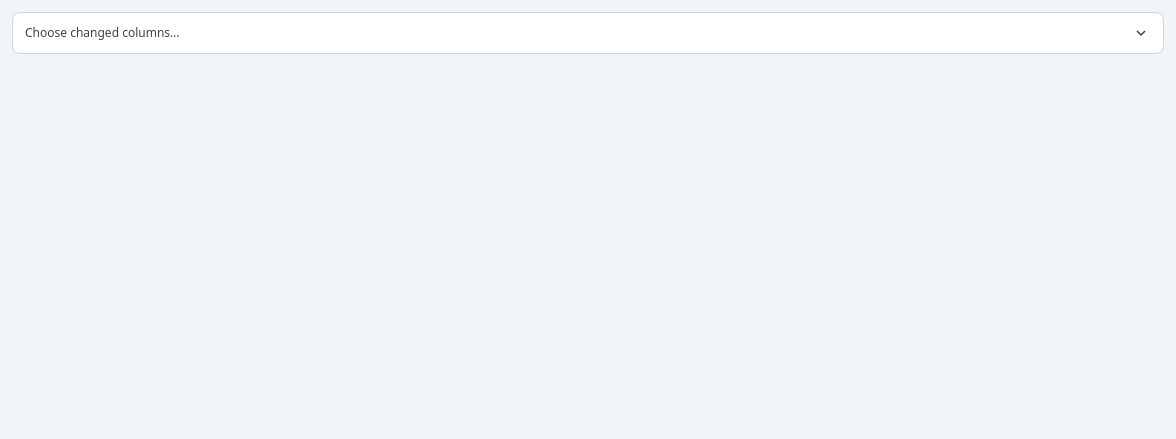
Test: Changed column picker › searches both names and preserves selections hidden by search as removable chips
Click the button with aria-label "Changed columns (optional)".
click(102, 33)  # box [12,12,1164,54]
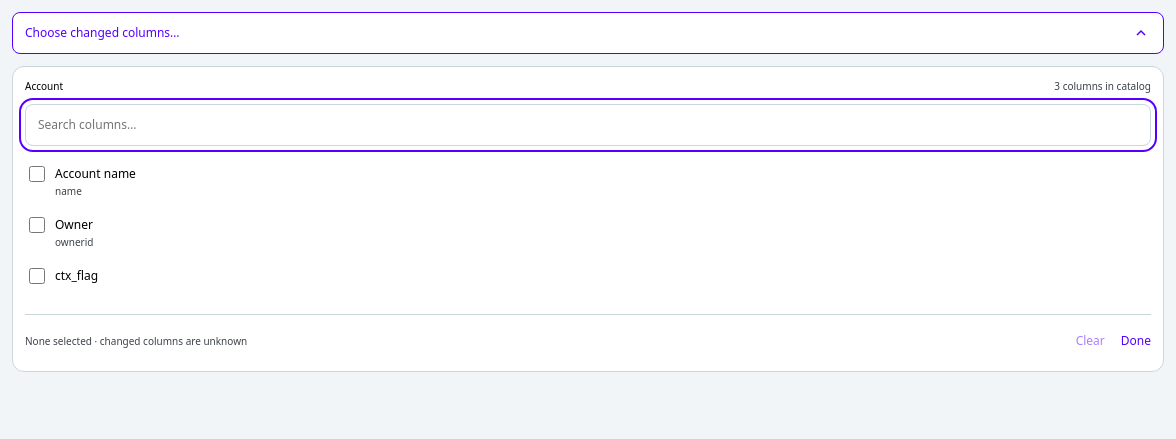
Click the checkbox named "Account name (name)".
click(37, 174)  # box [29,166,45,182]
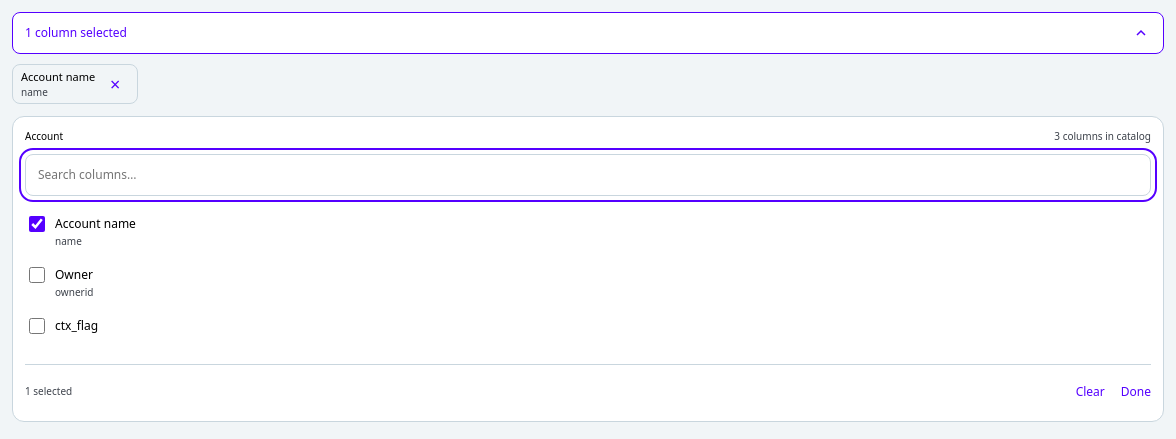
Type "OWNERID" into the search field.
click(588, 175); type("OWNERID")  # box [25,154,1151,196]
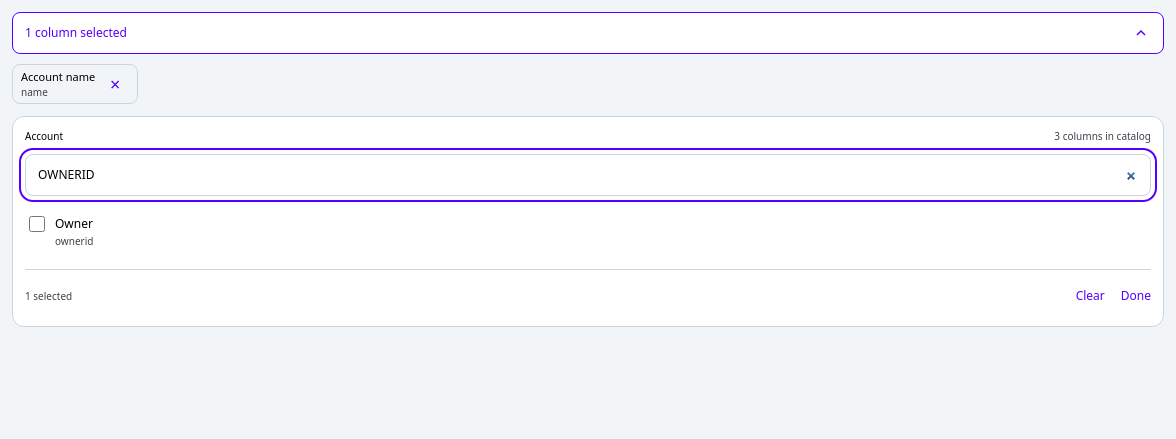
Now the checkbox named "Owner (ownerid)" is shown
Click the checkbox named "Owner (ownerid)".
click(37, 224)  # box [29,216,45,232]
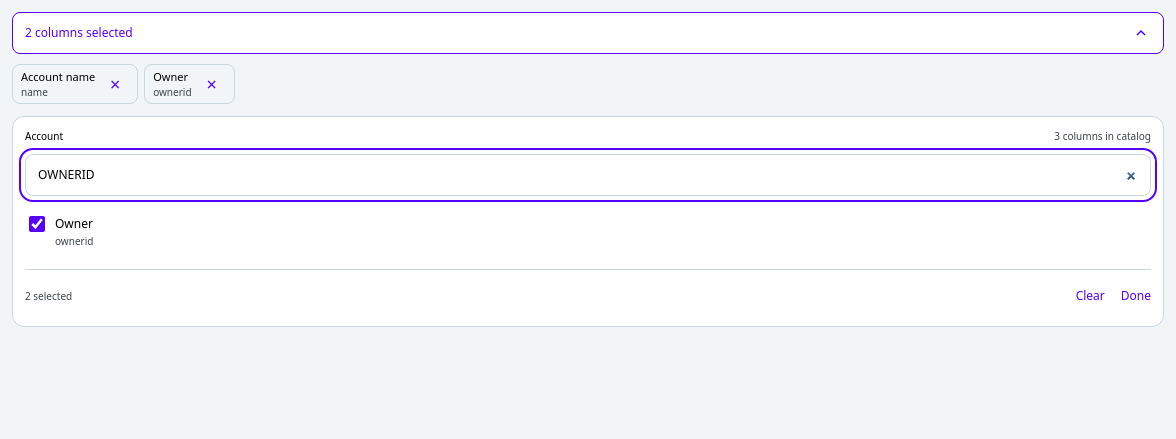
Now the text "Account name" is shown, box [21,69,95,84]
Now the message reads "2 selected", box [25,289,72,303]
Click the button named "Remove column name".
click(115, 84)  # box [101,70,129,98]
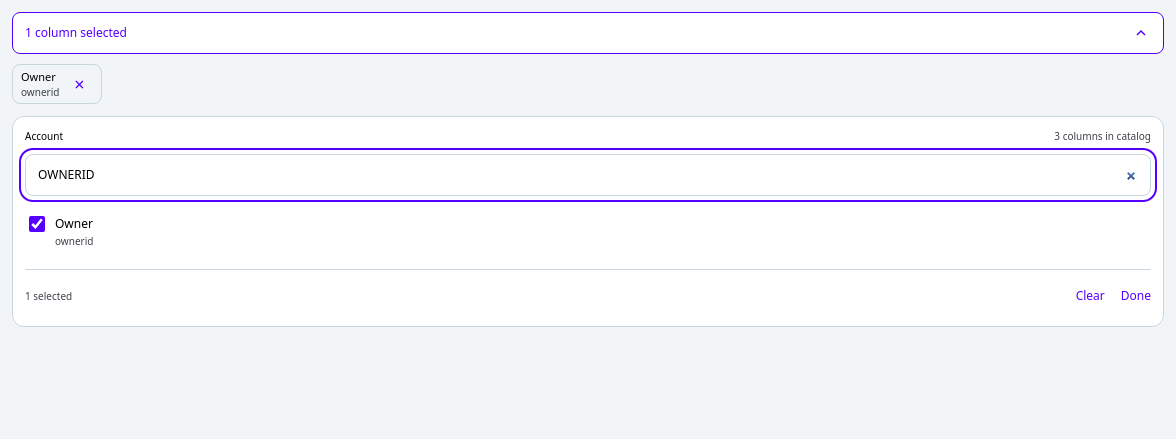
Now the message reads "1 selected", box [25,289,72,303]
Replace the text in the search field with "Account name" at (588, 175), box [25,154,1151,196]
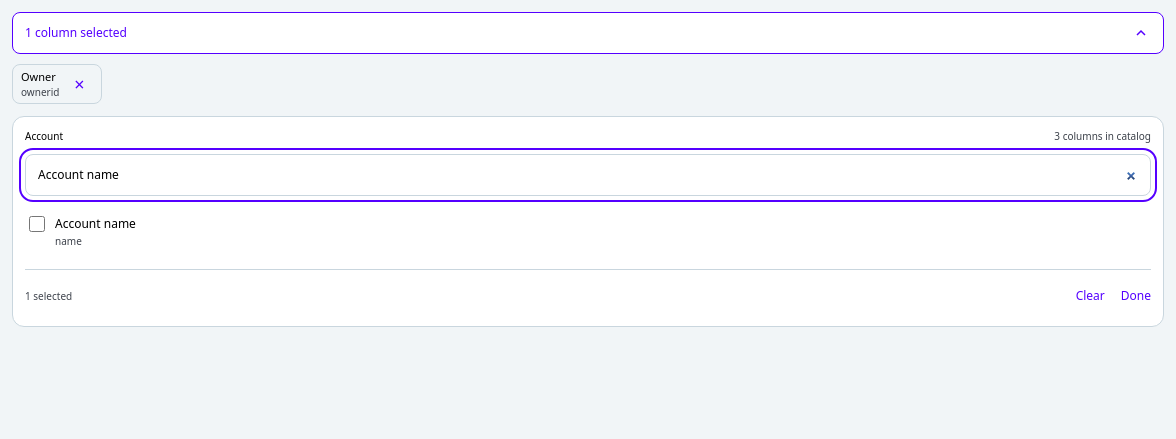
Now the checkbox named "Account name (name)" is not checked, box [29,216,45,232]
